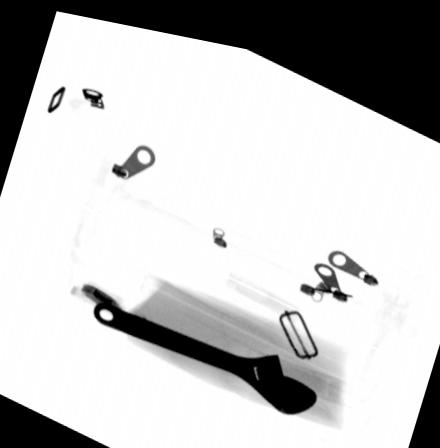Wrench: (92, 294, 319, 404)
